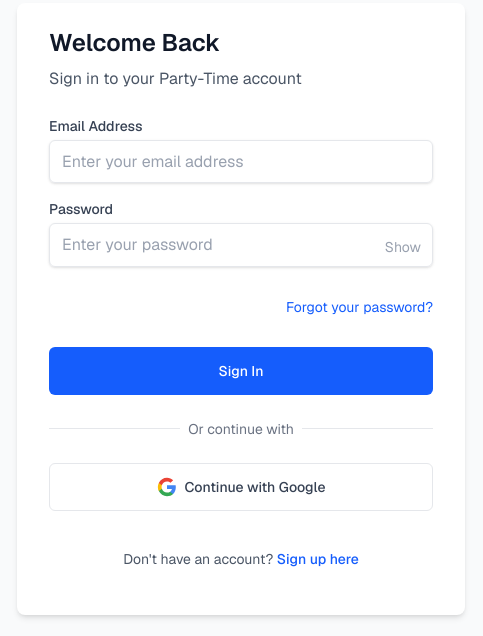
Test case: Authentication Flow Integration Tests › Registration to Login Flow › should allow switching from login to registration
Check: the heading "Welcome Back" is shown, box [49,27,220,58]
Note: Click switch to register
What coordinates should you click on to do the following:
click the button "Sign up here"
I would click on:
 (318, 559)
Its box is [277,535,359,583].
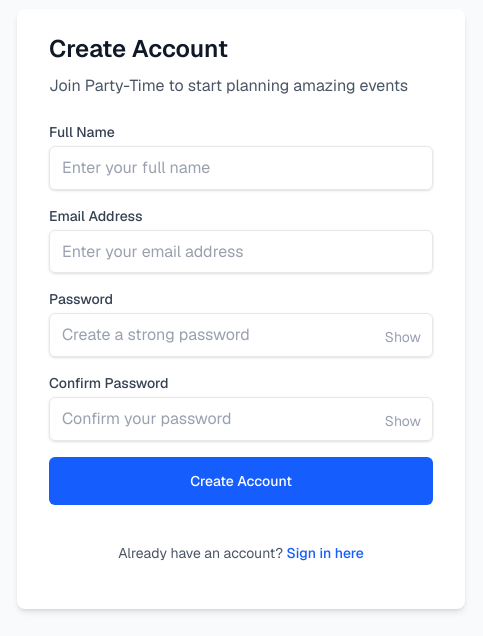
Check: the heading "Create Account" is shown, box [49,33,228,64]
